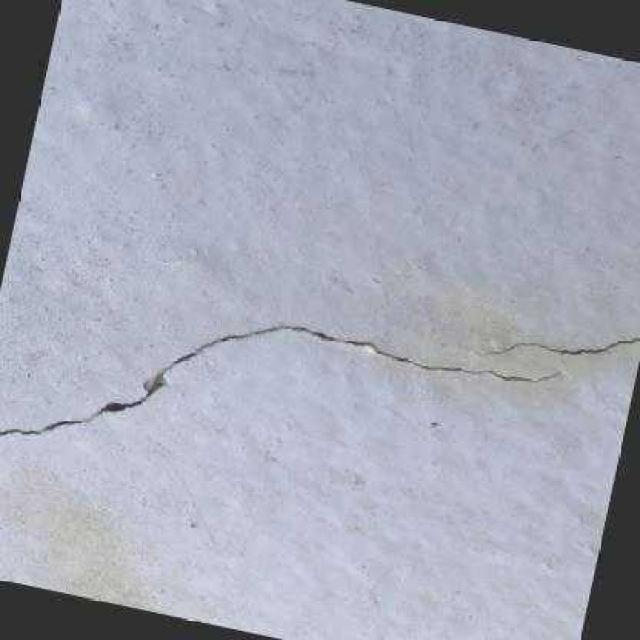D00: (0, 323, 565, 435), (472, 336, 640, 355)
